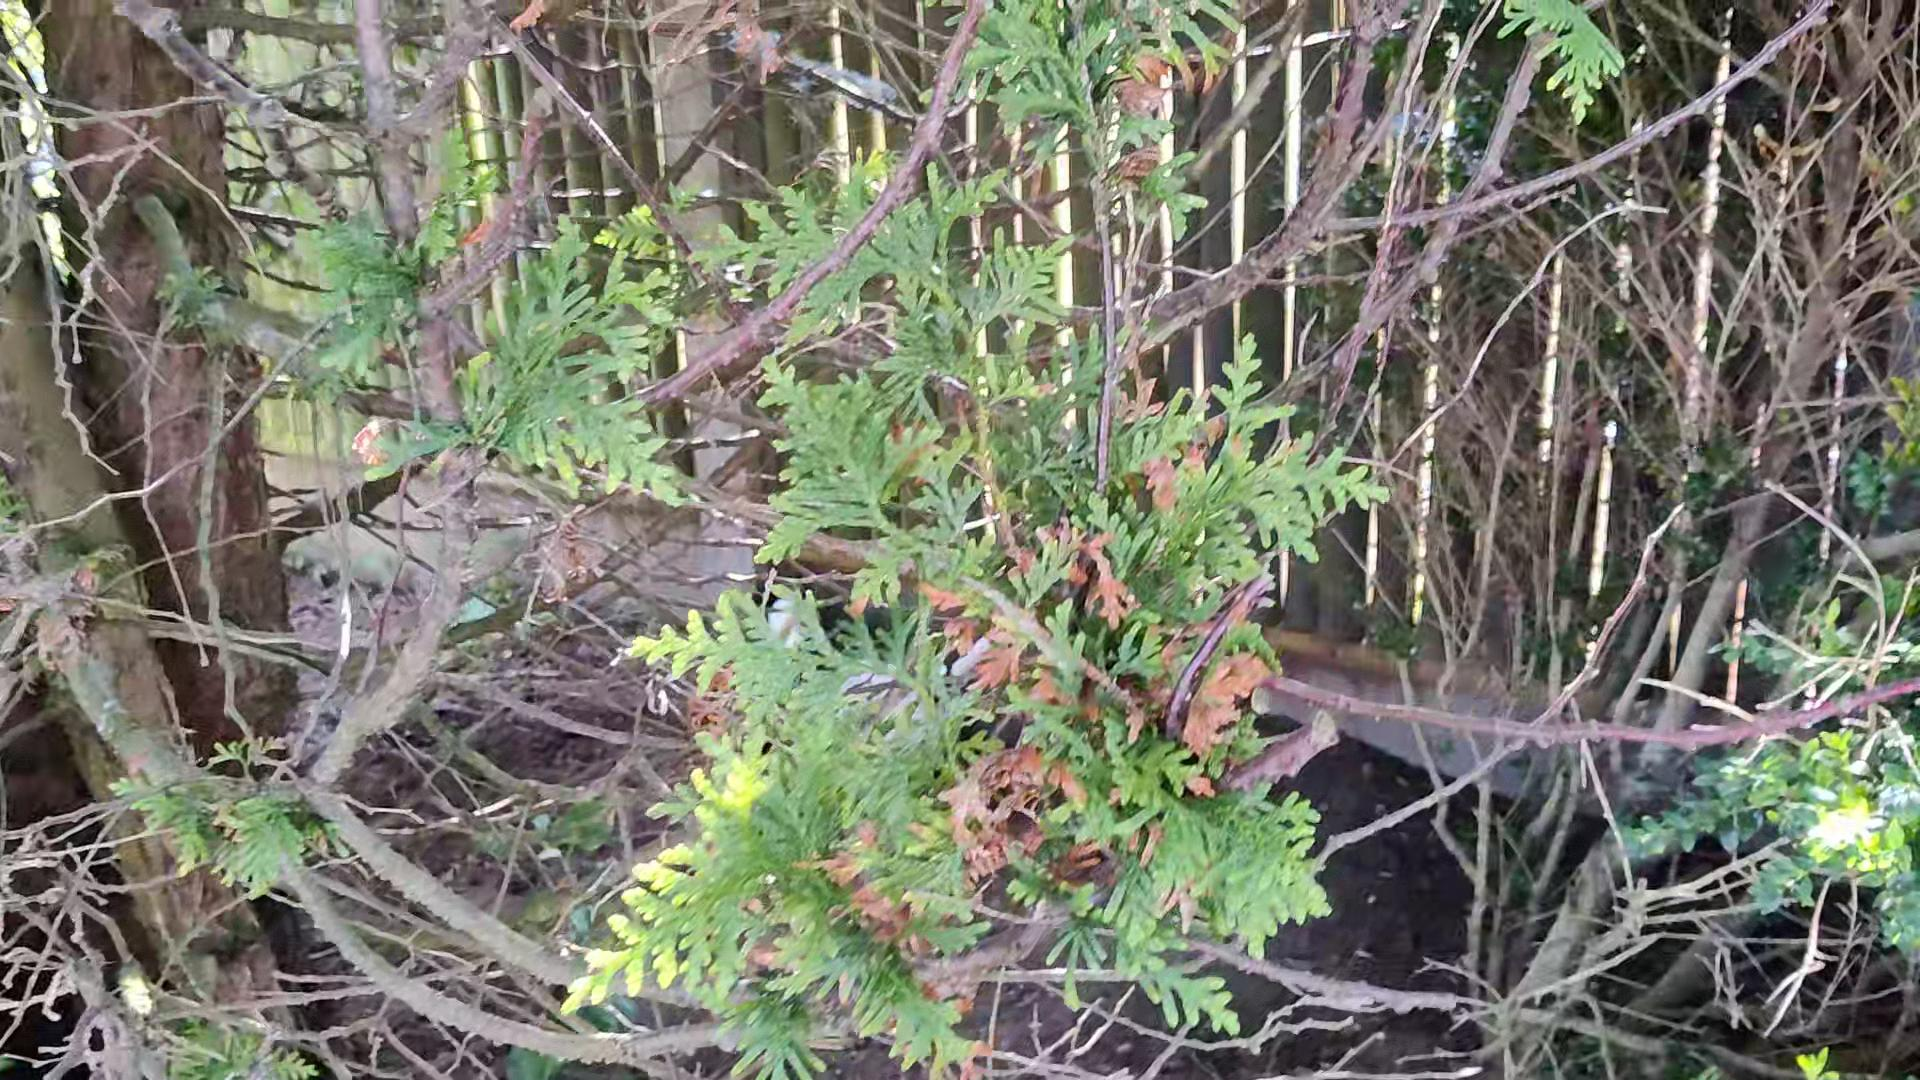Dog: (735, 554, 1040, 728)
